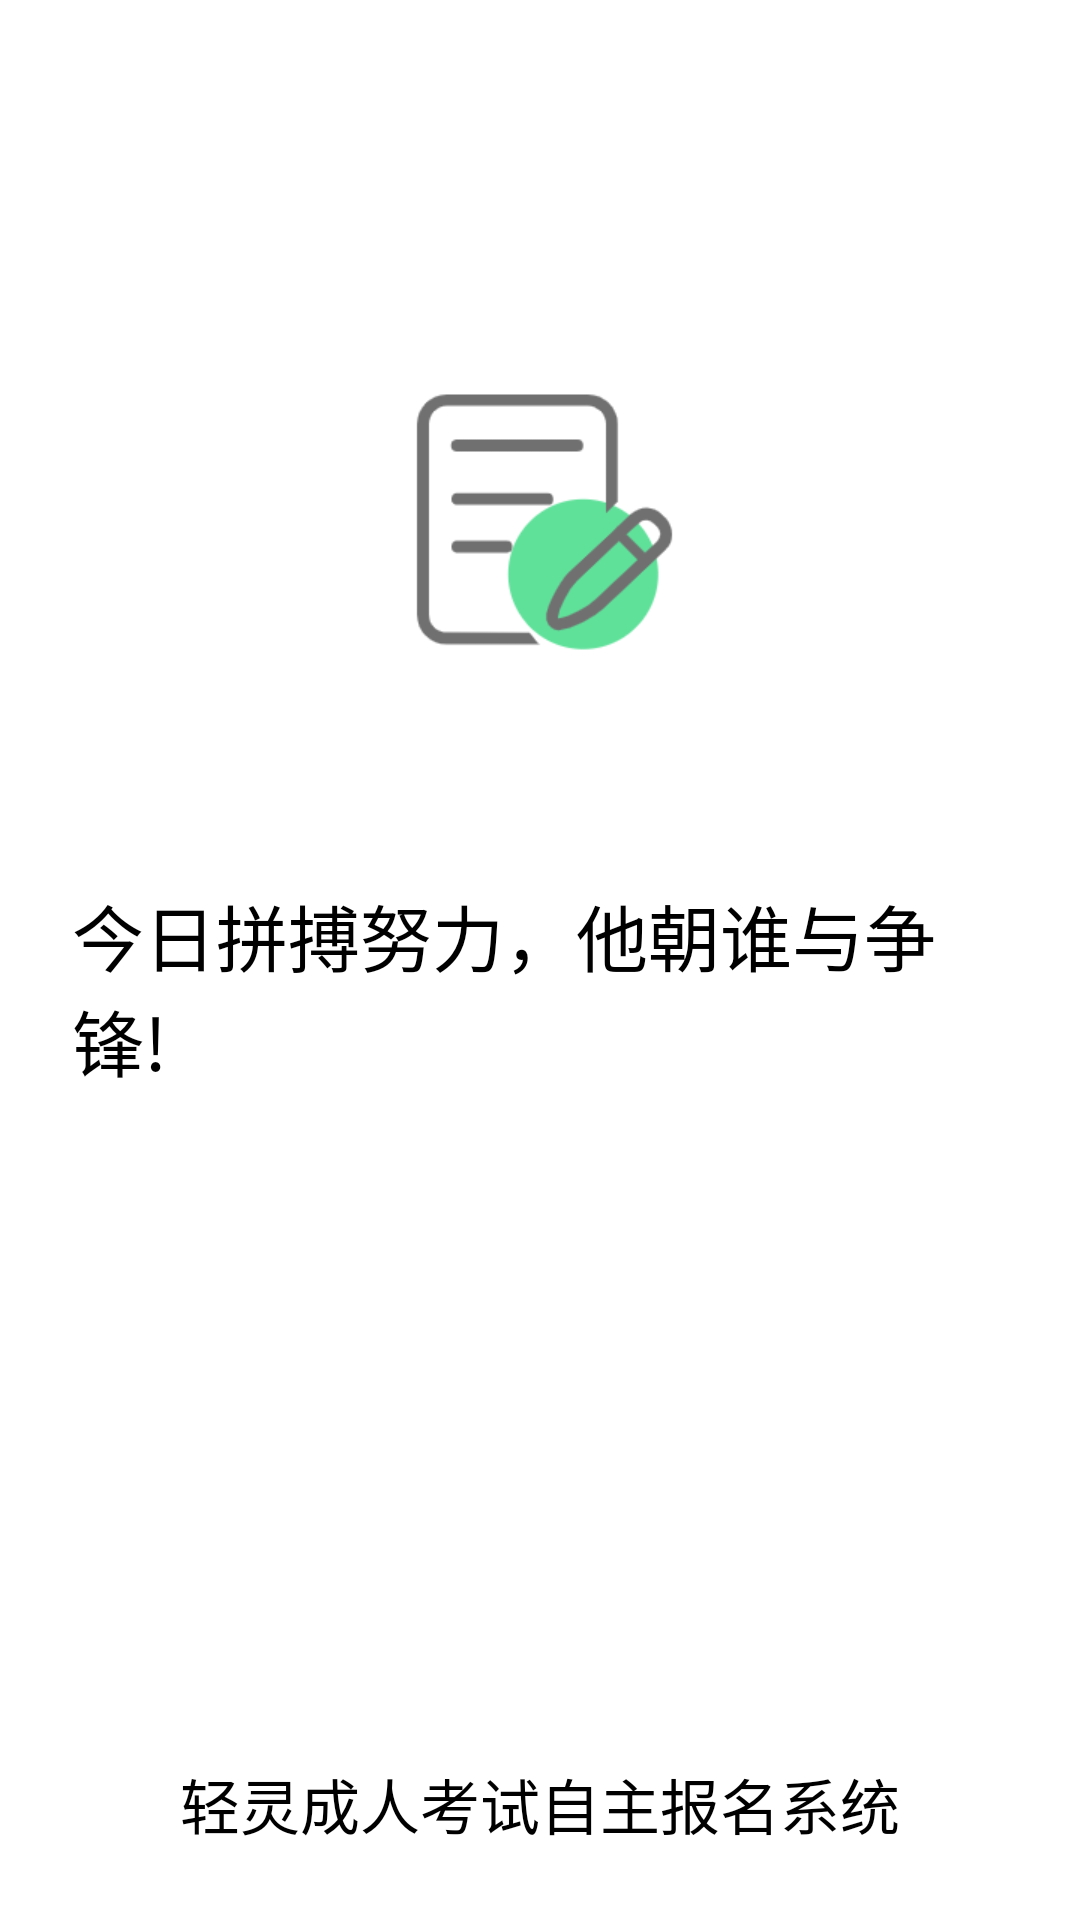

Icons on this 1080w x 1920h Android screen, each with the point to tap as [x,y]:
baoming: [544,522]
